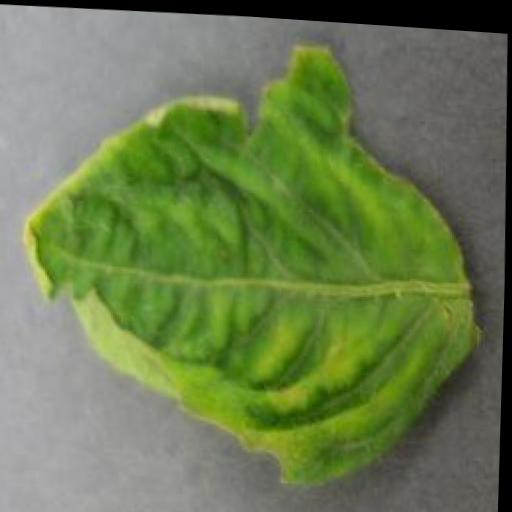Yellow Leaf Curl Virus: (10, 23, 491, 503)
